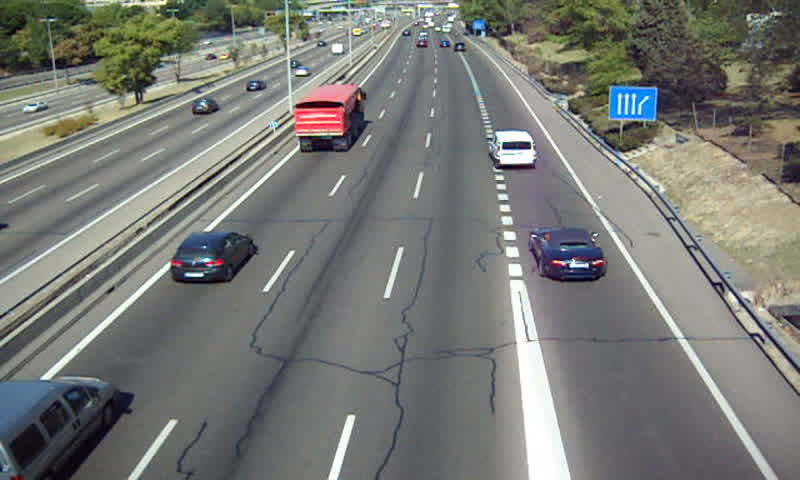car: (172, 232, 252, 281), (530, 228, 604, 280)
truck: (294, 84, 365, 152)
van: (1, 376, 116, 480), (489, 132, 535, 169)
